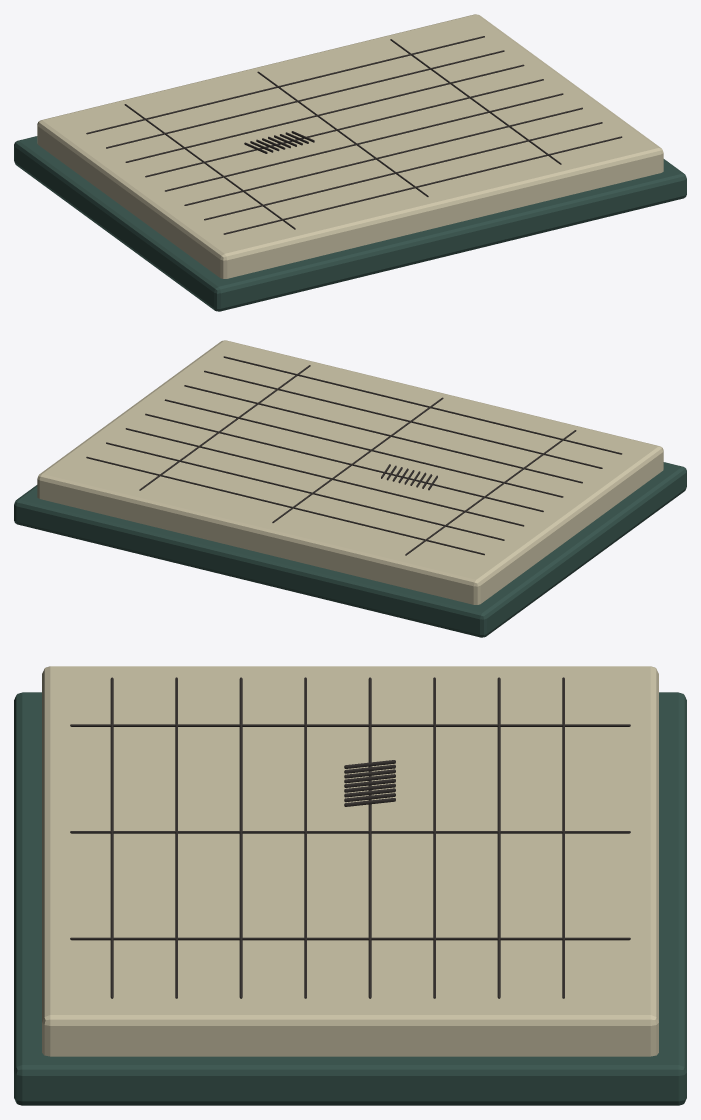
Rendered from story-register.fbx.
3 renders of one model, top to bottom at view 1: azimuth 30°, elevation 25°; view 2: azimuth 150°, elevation 25°; view 3: azimuth 270°, elevation 25°, orthographic. The views are drawn at different scales.
Visible parts, largest first — view 1: Paper block, Bound cover, Ruled record line, Ruled record line.003, Ruled record line.001, Ruled record line.002, Ruled record line.005, Ruled record line.006, Ruled record line.007, Ruled record line.004, Record column.002, Record column (+1 smaller); view 2: Paper block, Bound cover, Ruled record line.007, Ruled record line.005, Ruled record line, Ruled record line.001, Ruled record line.003, Ruled record line.002, Ruled record line.006, Ruled record line.004, Record column.002, Record column (+1 smaller); view 3: Paper block, Bound cover, Record column.002, Record column, Record column.001, Ruled record line, Ruled record line.002, Ruled record line.006, Ruled record line.004, Ruled record line.001, Ruled record line.003, Ruled record line.005 (+1 smaller).
Boxes of the visible parts, bbox=[...] form: Paper block: bbox=[37, 14, 663, 278]; Bound cover: bbox=[14, 136, 686, 311]; Ruled record line: bbox=[223, 136, 622, 234]; Ruled record line.003: bbox=[165, 93, 563, 191]; Ruled record line.001: bbox=[204, 122, 602, 220]; Ruled record line.002: bbox=[184, 107, 582, 205]; Ruled record line.005: bbox=[125, 64, 524, 162]; Ruled record line.006: bbox=[106, 50, 504, 148]; Ruled record line.007: bbox=[86, 36, 484, 134]; Ruled record line.004: bbox=[145, 79, 543, 177]; Record column.002: bbox=[390, 39, 561, 164]; Record column: bbox=[124, 104, 295, 229]; Paper block: bbox=[37, 340, 663, 604]; Bound cover: bbox=[14, 462, 686, 637]; Ruled record line.007: bbox=[86, 456, 484, 555]; Ruled record line.005: bbox=[125, 428, 524, 526]; Ruled record line: bbox=[223, 356, 622, 454]; Ruled record line.001: bbox=[204, 370, 602, 468]; Ruled record line.003: bbox=[164, 399, 563, 497]; Ruled record line.002: bbox=[184, 385, 582, 483]; Ruled record line.006: bbox=[106, 442, 504, 540]; Ruled record line.004: bbox=[145, 413, 543, 511]; Record column.002: bbox=[139, 365, 310, 490]; Record column: bbox=[405, 430, 576, 555]; Paper block: bbox=[42, 666, 658, 1056]; Bound cover: bbox=[14, 692, 686, 1105]; Record column.002: bbox=[70, 937, 630, 940]; Record column: bbox=[70, 724, 630, 726]; Record column.001: bbox=[70, 831, 630, 833]; Ruled record line: bbox=[110, 677, 113, 998]; Ruled record line.002: bbox=[239, 677, 242, 998]; Ruled record line.006: bbox=[497, 677, 500, 998]; Ruled record line.004: bbox=[368, 677, 371, 998]; Ruled record line.001: bbox=[175, 677, 177, 998]; Ruled record line.003: bbox=[304, 677, 306, 998]; Ruled record line.005: bbox=[433, 677, 435, 998].
Size of the model in its own units: 0.32 by 0.0338 by 0.24.
